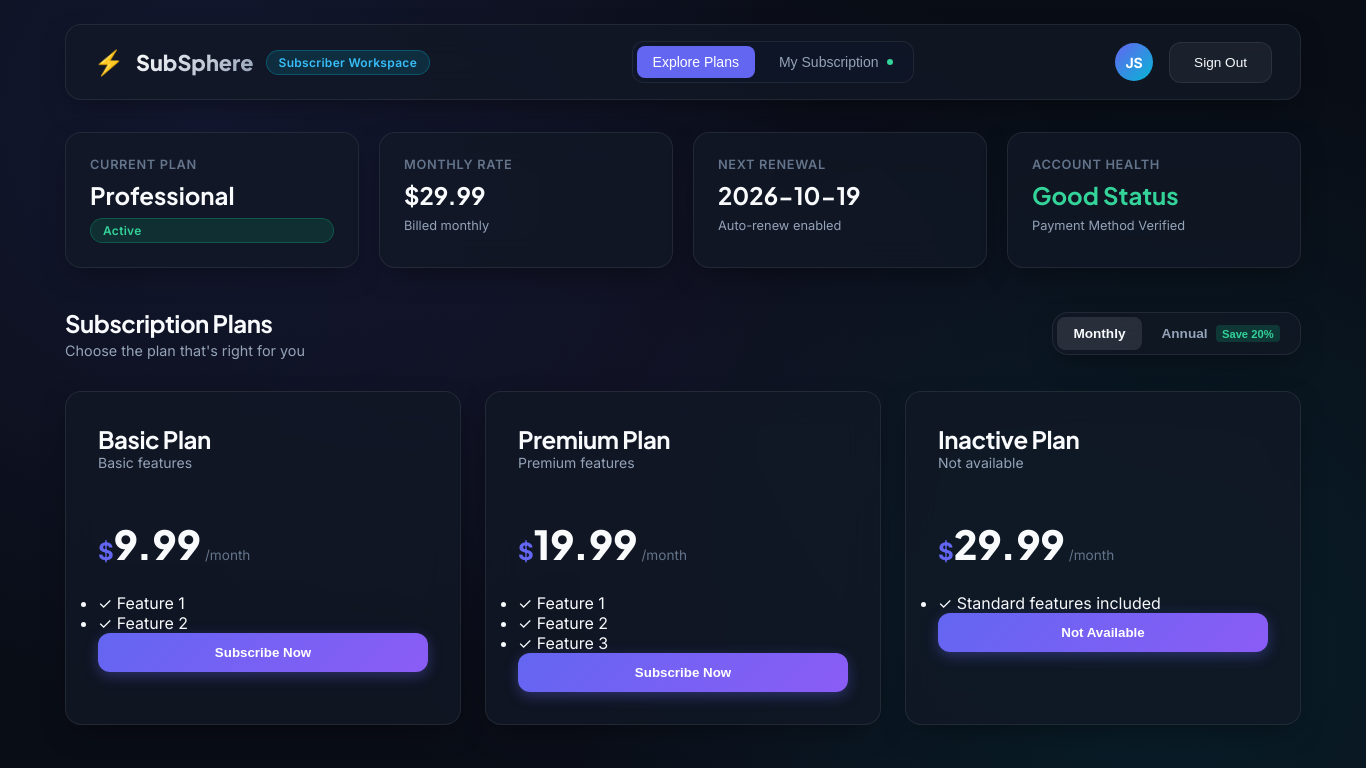
Test: SubscriberDashboard › successful subscription shows success message
This screenshot has width=1366, height=768.
Check: the heading "Basic Plan" is shown, box [98, 424, 211, 454]
Click the button "Subscribe Now" below "Basic features".
click(263, 652)  # box [98, 633, 428, 672]
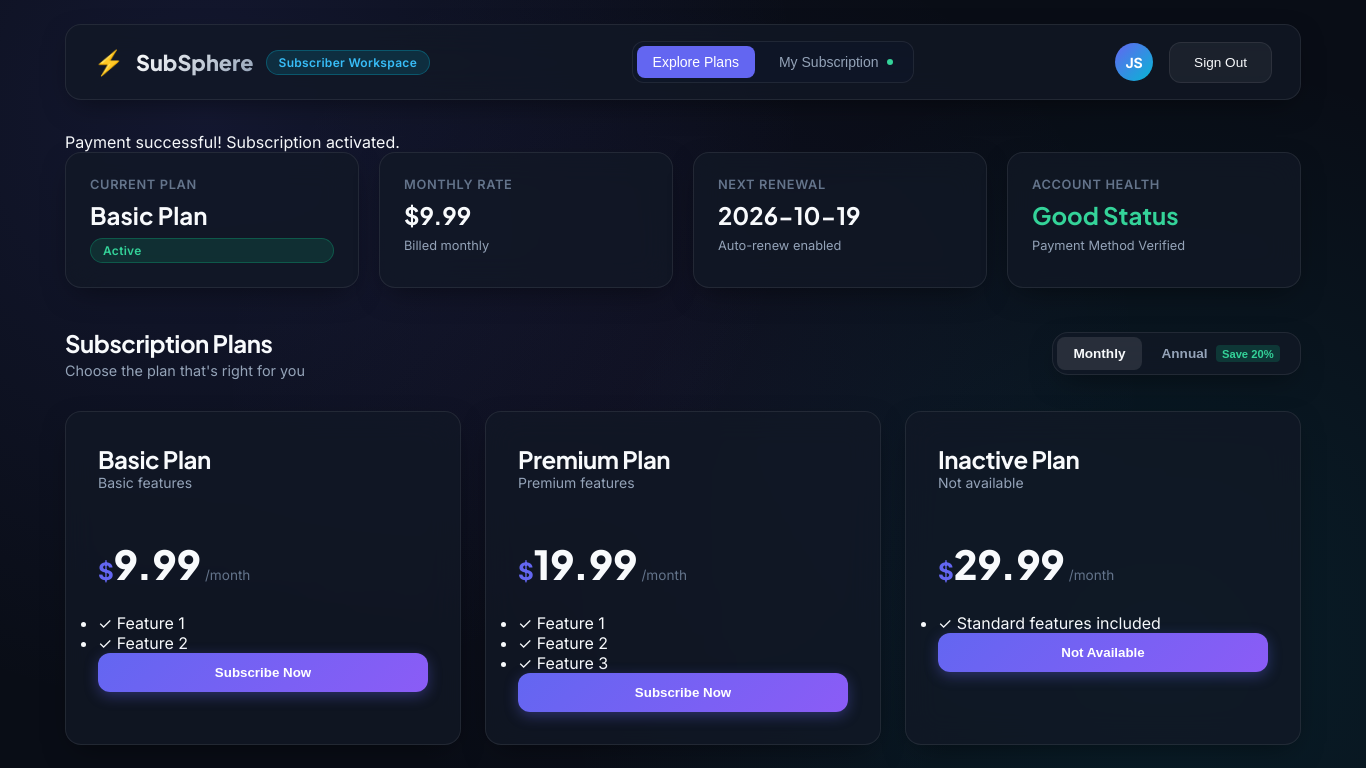
Check: the text "Payment successful! Subscription activated." is shown, box [65, 132, 400, 152]
